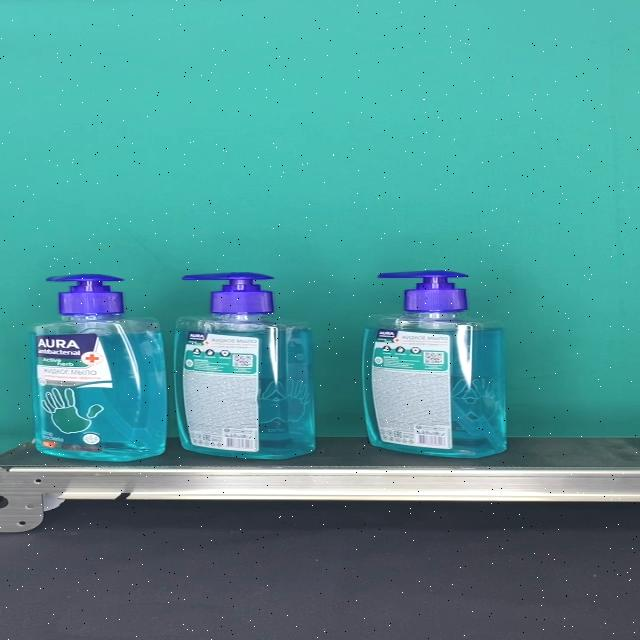Bottle: (363, 269, 506, 459), (175, 271, 314, 460), (30, 273, 166, 461)
Cap: (182, 271, 273, 314), (379, 270, 470, 312), (46, 273, 126, 314)
